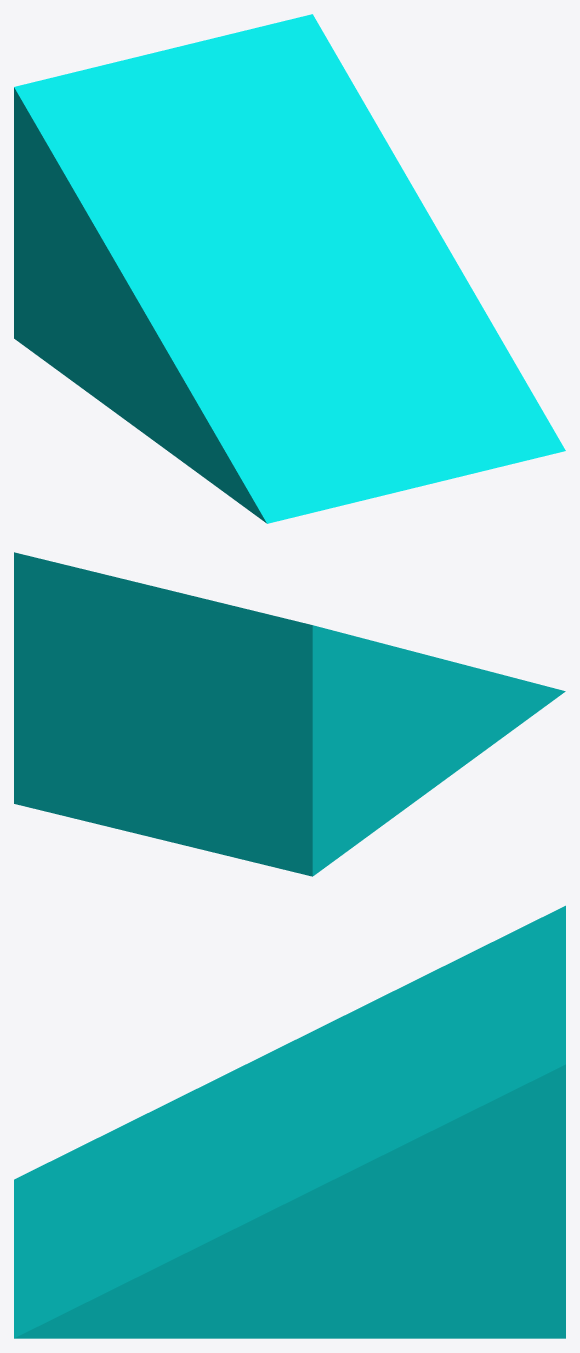
The model's file is ramp.fbx.
3 views of the same model, one above another, from view 1: azimuth 30°, elevation 25°; view 2: azimuth 150°, elevation 25°; view 3: azimuth 270°, elevation 25° (orthographic). The views are drawn at different scales.
Visible parts, largest first — view 1: pCube1; view 2: pCube1; view 3: pCube1.
Boxes of the visible parts, x1,y1,x2,y2 form: pCube1: (14, 14, 565, 523); pCube1: (14, 552, 565, 876); pCube1: (14, 905, 565, 1338).
Bounding box in the file's own units: 4.82 × 3.88 × 7.08.
